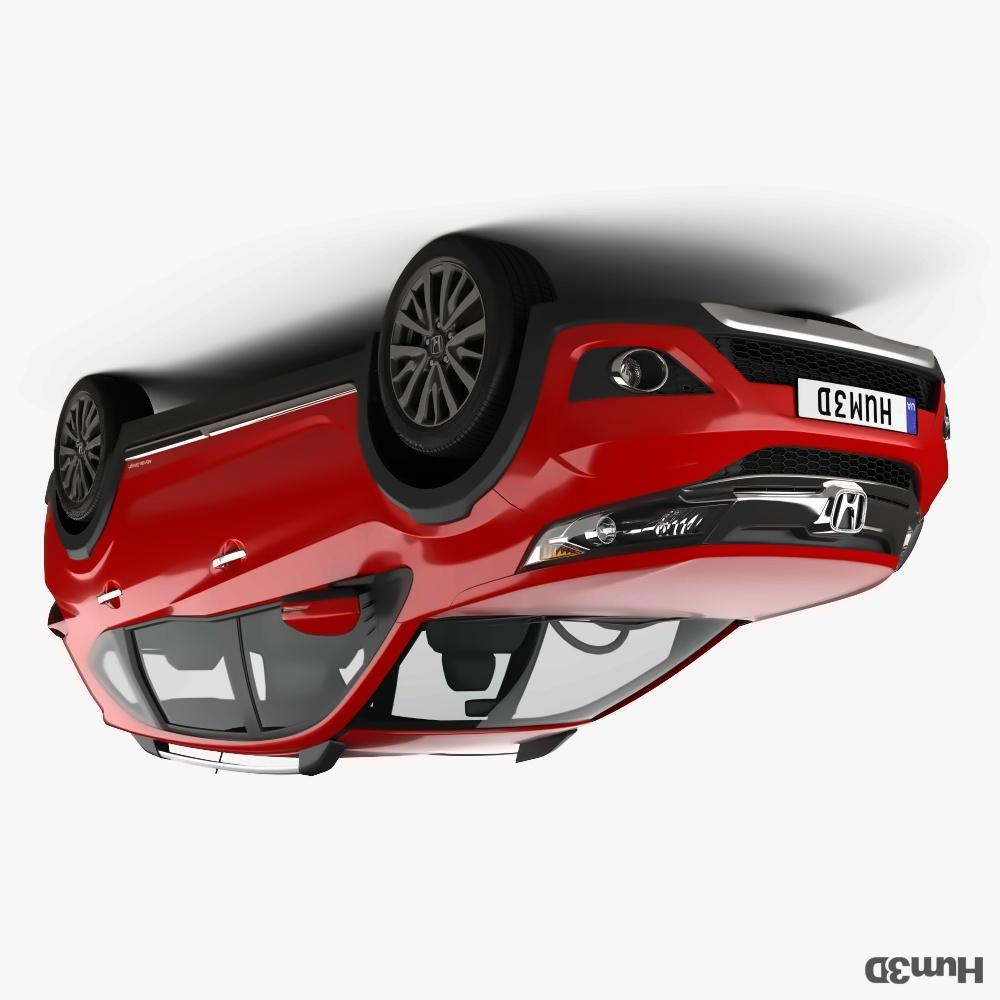Car hood: (447, 537, 903, 630)
Fender - -F-L-: (349, 350, 547, 629)
Fender - -R-L-: (63, 442, 126, 656)
Front bumper: (489, 292, 968, 522)
Headlight - -L-: (510, 484, 737, 574)
Headlight - -R-: (883, 504, 928, 587)
Passenger-s door - -F-L-: (210, 376, 380, 749)
Passenger-s door - -R-L-: (99, 416, 258, 752)
Rear bumper: (32, 467, 80, 587)
Rear light - -L-: (32, 590, 72, 647)
Side bumper - -L-: (104, 330, 382, 464)
Side mirror - -L-: (274, 573, 375, 644)
